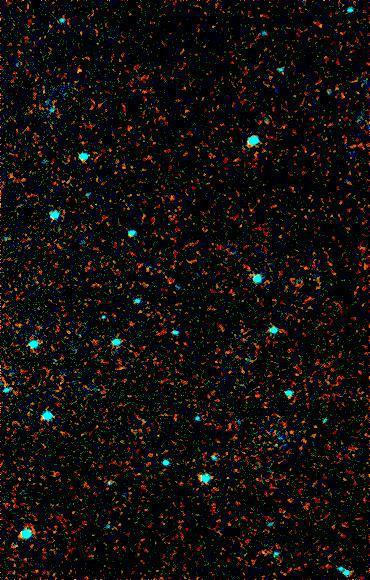star: (61, 54, 91, 84)
